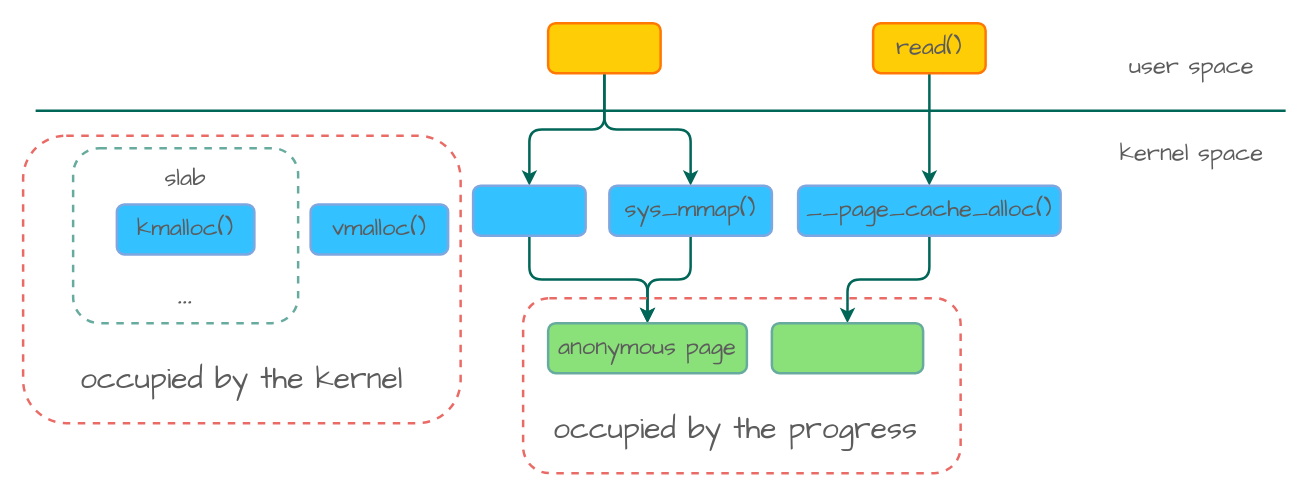
This 1309x495 diagram has some shape labels left out. Each missing label, with the box of its shape:
malloc(): (546, 21, 661, 74)
page cache: (770, 321, 924, 374)
sys_brk(): (471, 184, 586, 236)
